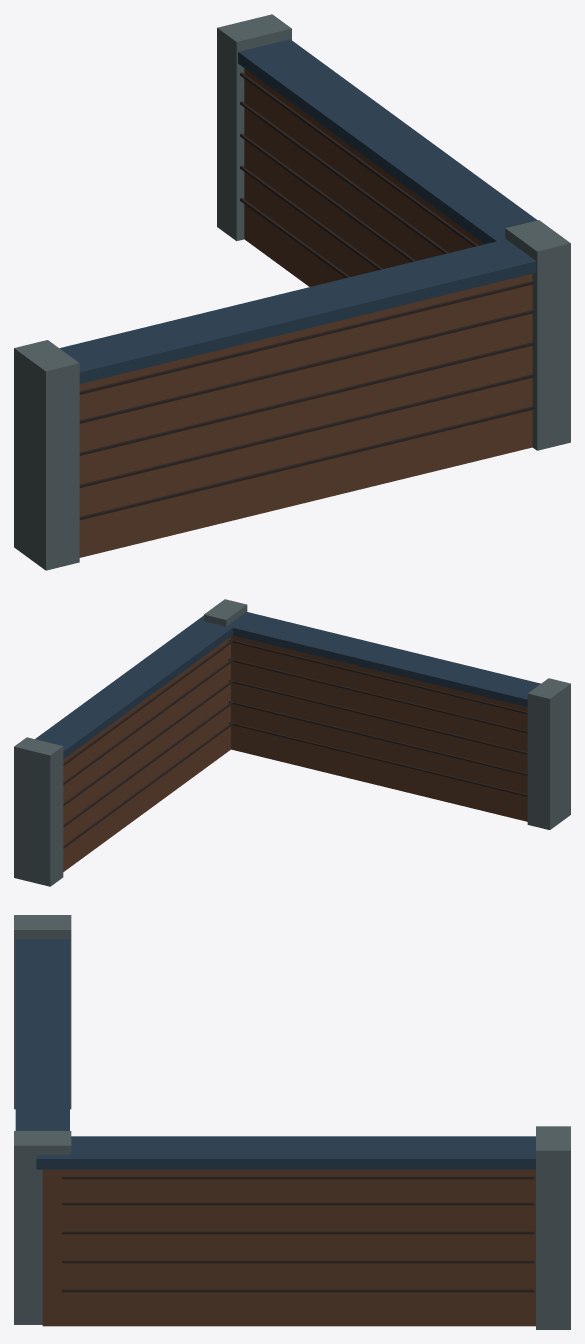
The model's file is PirateCove_BoundaryCorner_Simple.glb.
3 views of the same model, one above another, from view 1: azimuth 30°, elevation 25°; view 2: azimuth 150°, elevation 25°; view 3: azimuth 270°, elevation 25° (orthographic). The views are drawn at different scales.
Visible parts, largest first — view 1: PirateCove_BoundaryCorner_Simple; view 2: PirateCove_BoundaryCorner_Simple; view 3: PirateCove_BoundaryCorner_Simple.
Boxes of the visible parts, x1,y1,x2,y2 form: PirateCove_BoundaryCorner_Simple: (14,14,570,570); PirateCove_BoundaryCorner_Simple: (14,599,570,886); PirateCove_BoundaryCorner_Simple: (14,915,570,1329).
Bounding box in the file's own units: 8.73 × 3.1 × 8.73.
